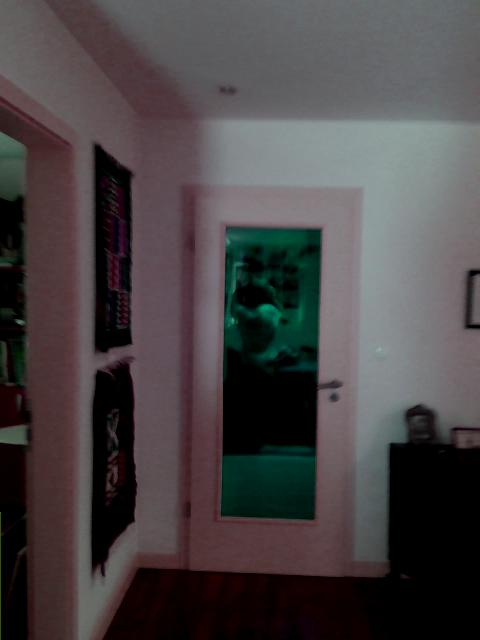closed_door: (176, 180, 359, 581)
